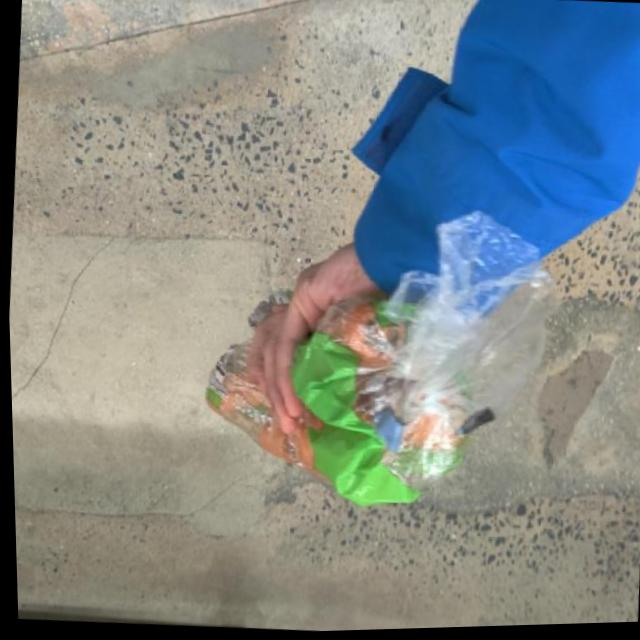Carrots: (170, 251, 519, 533)
